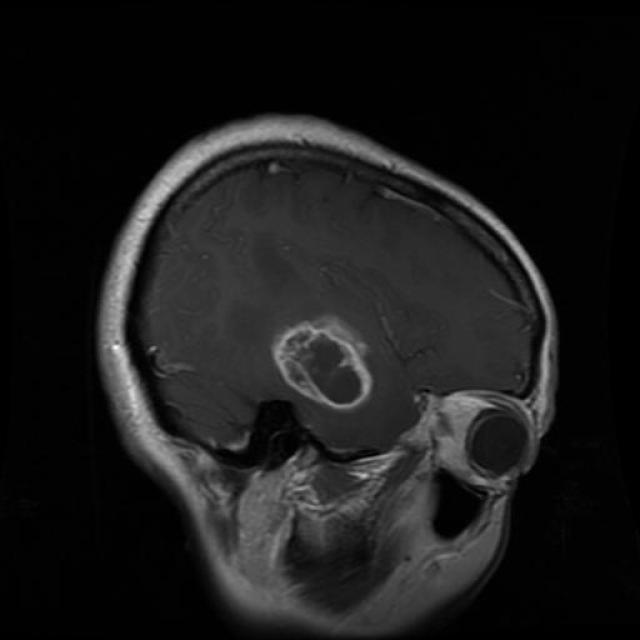glioma: (274, 320, 374, 410)
